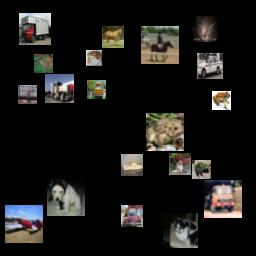airplane: (5, 205, 43, 243)
automobile: (197, 53, 223, 79), (121, 205, 143, 227)
cat: (163, 213, 198, 248), (192, 16, 218, 42)
deer: (34, 54, 53, 73), (18, 85, 37, 104)
dog: (47, 178, 85, 216), (169, 153, 191, 175)
frog: (146, 113, 184, 151), (212, 91, 231, 110), (192, 160, 211, 179), (86, 50, 102, 66)
ship: (121, 154, 143, 176)
truck: (204, 180, 242, 218), (19, 13, 51, 45), (45, 74, 74, 103), (87, 80, 106, 99)
